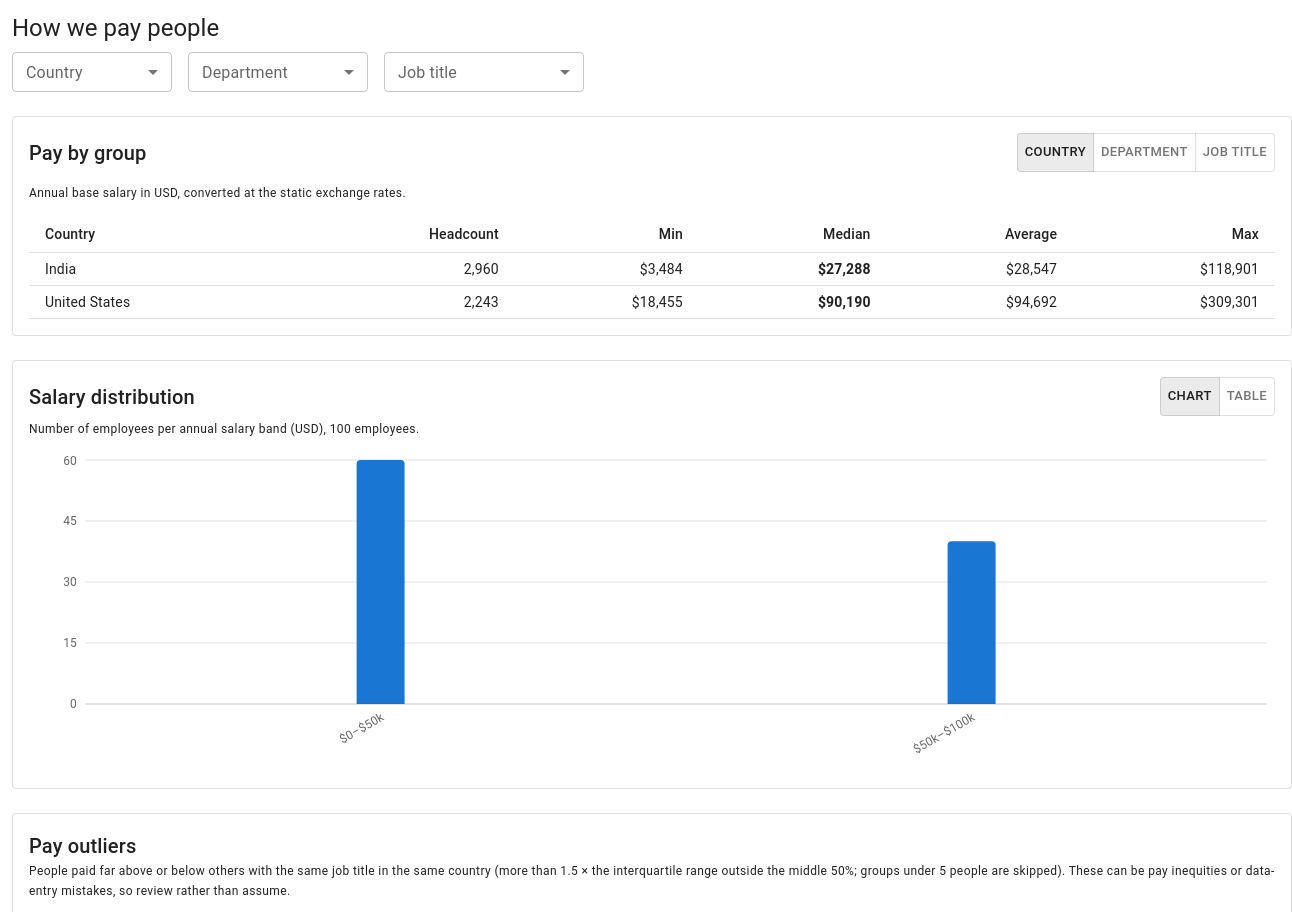
it: InsightsPage › offers the distribution as a table with counts and shares
Expected: the table named "Pay by group" is shown, [29, 216, 1275, 319]
Click the button "Table" at point(1247, 397), box [1219, 377, 1275, 416]
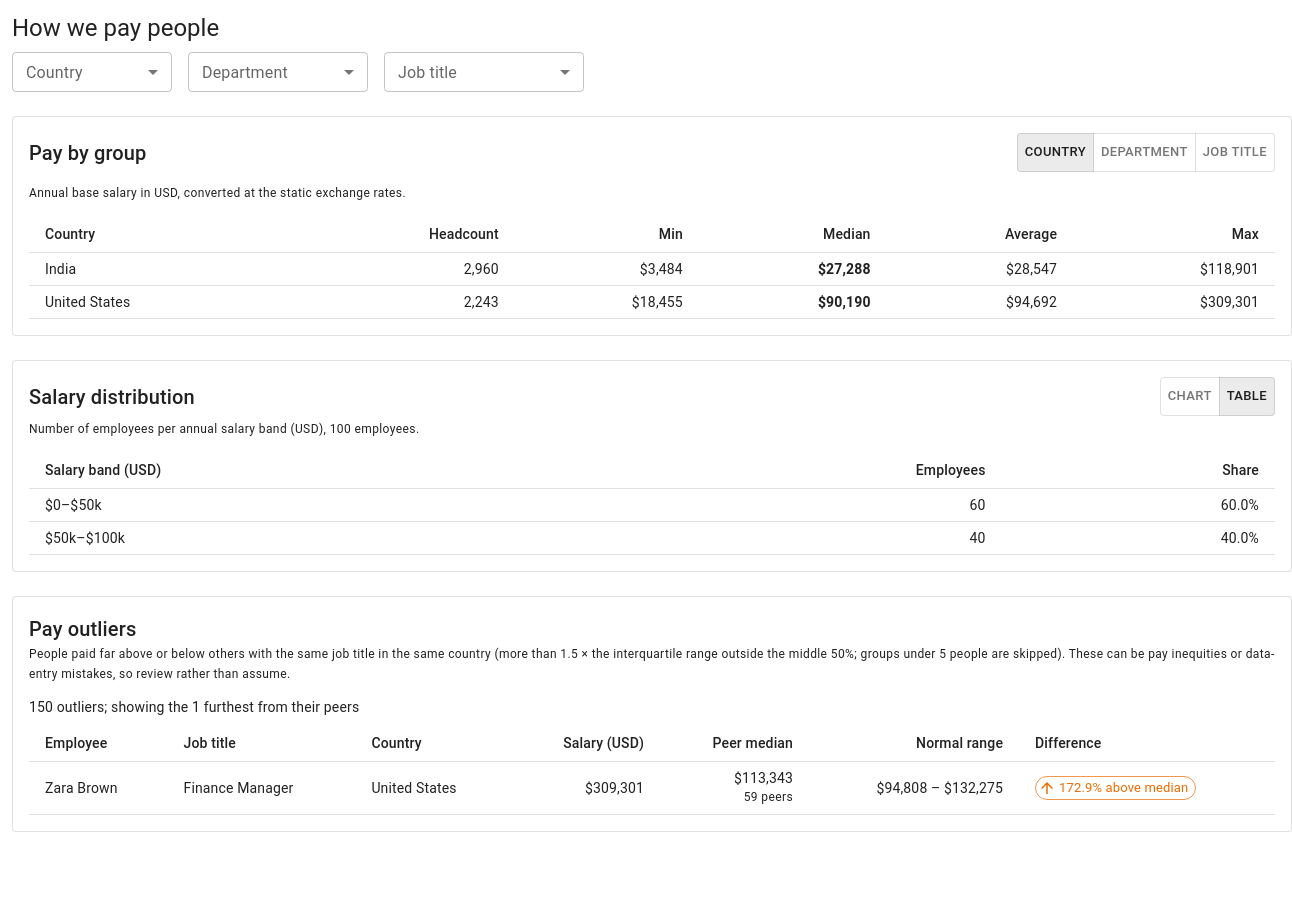
Expected: the text "$0–$50k" is shown, [29, 488, 606, 521]
Expected: the text "60.0%" is shown, [1002, 488, 1275, 521]
